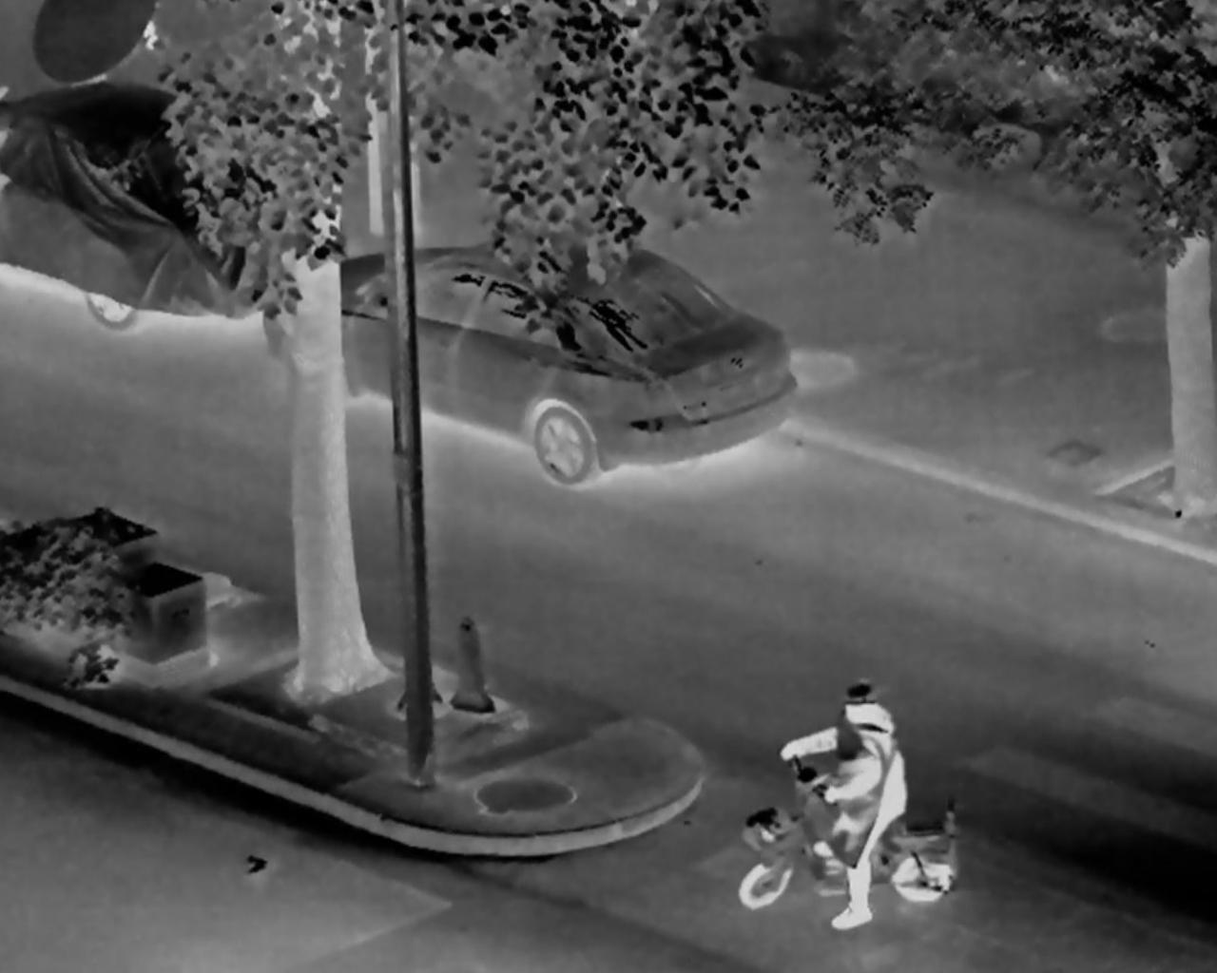person: (778, 682, 911, 930)
